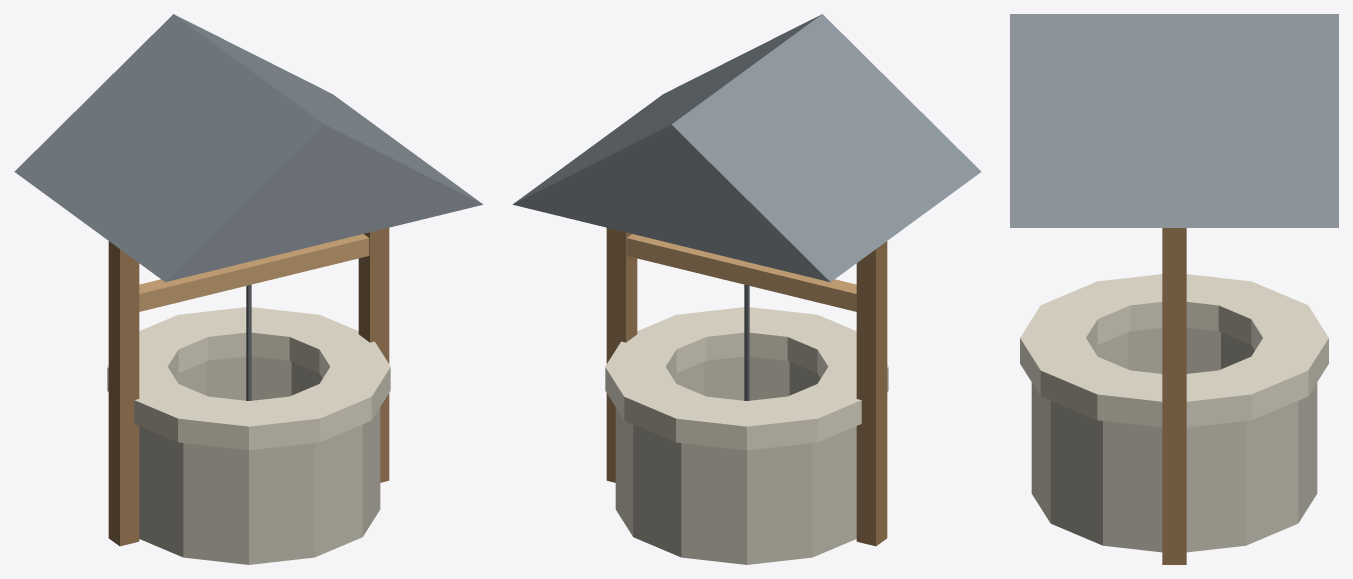
The model's file is well.glb.
The picture shows the model from 3 angles, left to right: view 1: azimuth 30°, elevation 25°; view 2: azimuth 150°, elevation 25°; view 3: azimuth 270°, elevation 25°; orthographic projection. The views are drawn at different scales.
Parts seen in each view (by area): view 1: well; view 2: well; view 3: well.
Part boxes in pixels (x1=…): well: x1=14, y1=14, x2=482, y2=564; well: x1=513, y1=14, x2=981, y2=564; well: x1=1010, y1=14, x2=1338, y2=564.
Size of the model in its own units: 2.8 by 3.7 by 2.3.
